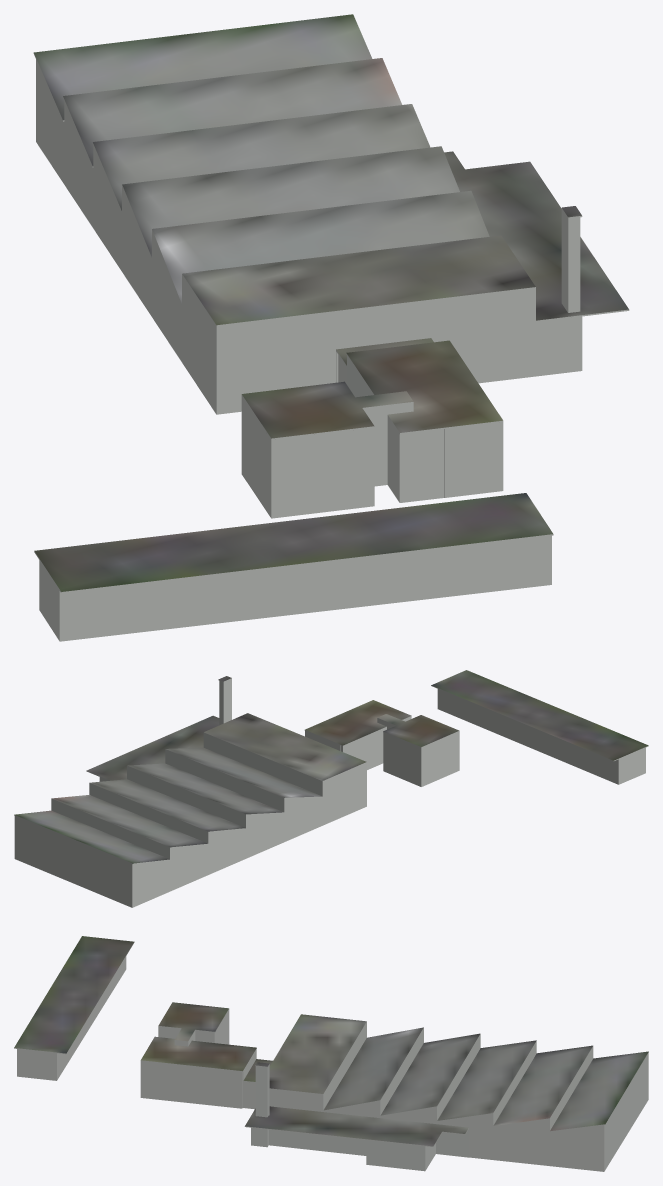
The model's file is LSME_-2_0.glb.
3 renders of one model, top to bottom at view 1: azimuth 30°, elevation 25°; view 2: azimuth 150°, elevation 25°; view 3: azimuth 270°, elevation 25°, orthographic. The views are drawn at different scales.
Visible parts, largest first — view 1: building_c9d30d7f5dbb2558, building_910b900b2c594888; view 2: building_910b900b2c594888, building_c9d30d7f5dbb2558; view 3: building_c9d30d7f5dbb2558, building_910b900b2c594888.
Boxes of the visible parts, x1,y1,x2,y2 form: building_c9d30d7f5dbb2558: (33, 14, 629, 593); building_910b900b2c594888: (36, 59, 582, 641); building_910b900b2c594888: (14, 679, 645, 907); building_c9d30d7f5dbb2558: (14, 670, 648, 864); building_c9d30d7f5dbb2558: (14, 936, 648, 1146); building_910b900b2c594888: (17, 956, 648, 1171).
Bounding box in the file's own units: 123 × 22.26 × 158.
2 materials, 1 textured.
